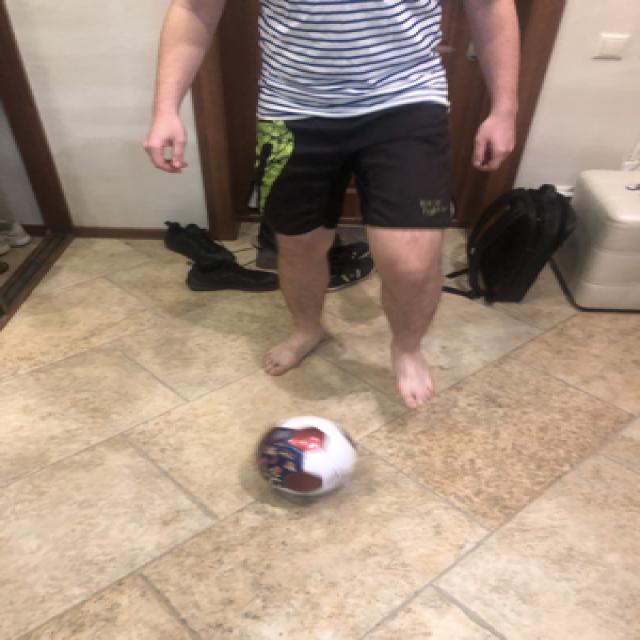soccer_ball: (250, 413, 358, 496)
